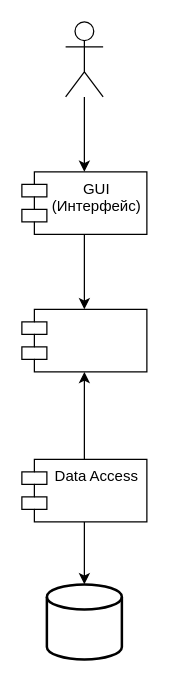
The diagram is 169 pixels wide and 683 high, and some of its shapes have lost their labels. The centre of each missing label's shape, as x and y in pixels:
"Business Logic" goes at pixel 84 340.
"Database" goes at pixel 83 621.
